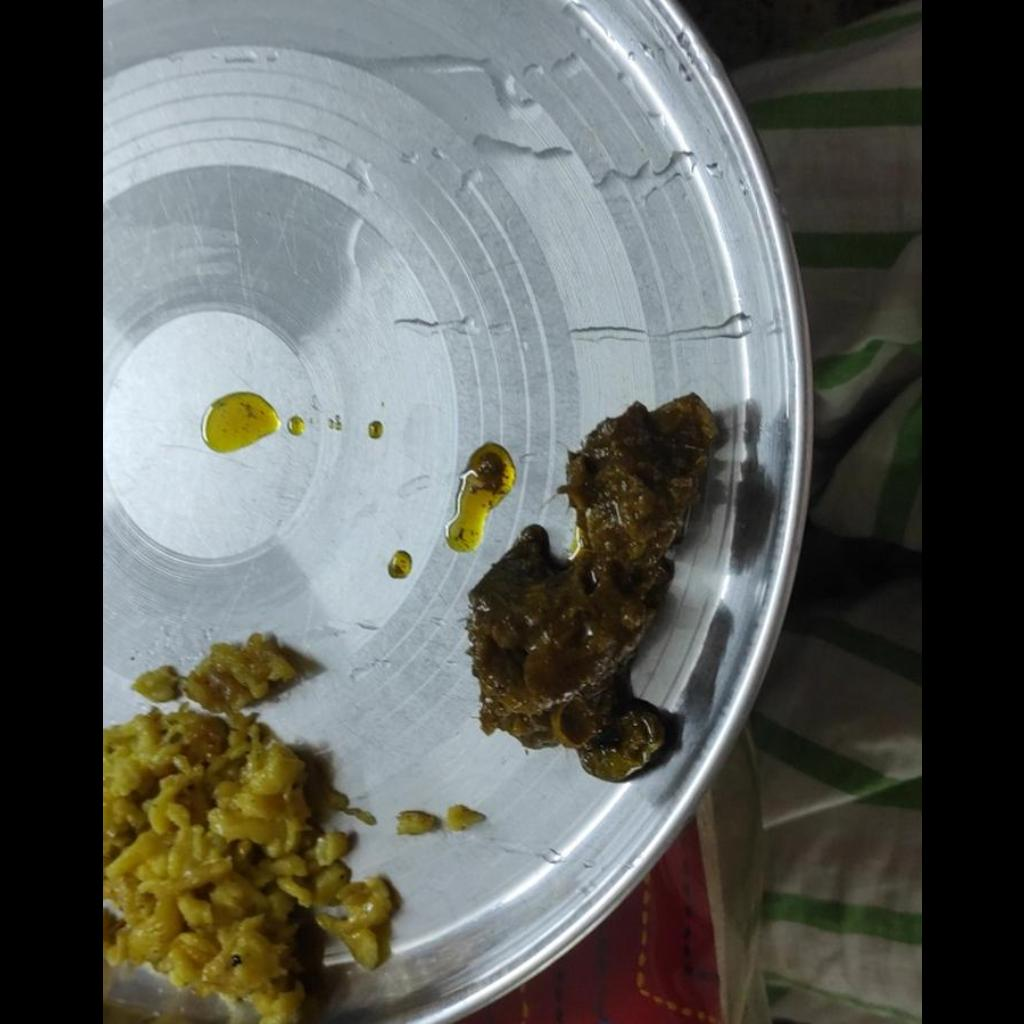beef: (468, 396, 731, 787)
puffed-rice: (104, 634, 402, 1019)
